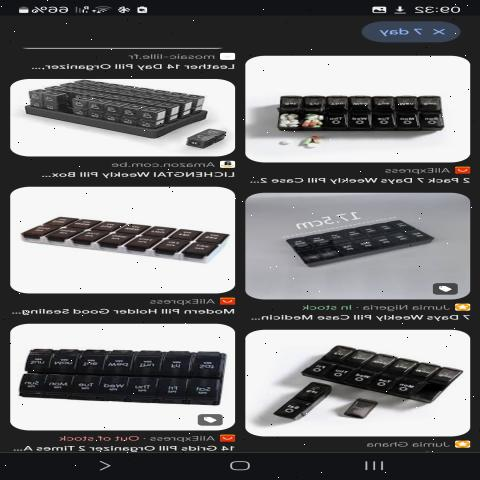PillBox: (12, 344, 240, 408), (26, 210, 229, 274), (279, 201, 442, 280), (270, 78, 458, 142), (283, 343, 469, 393)
